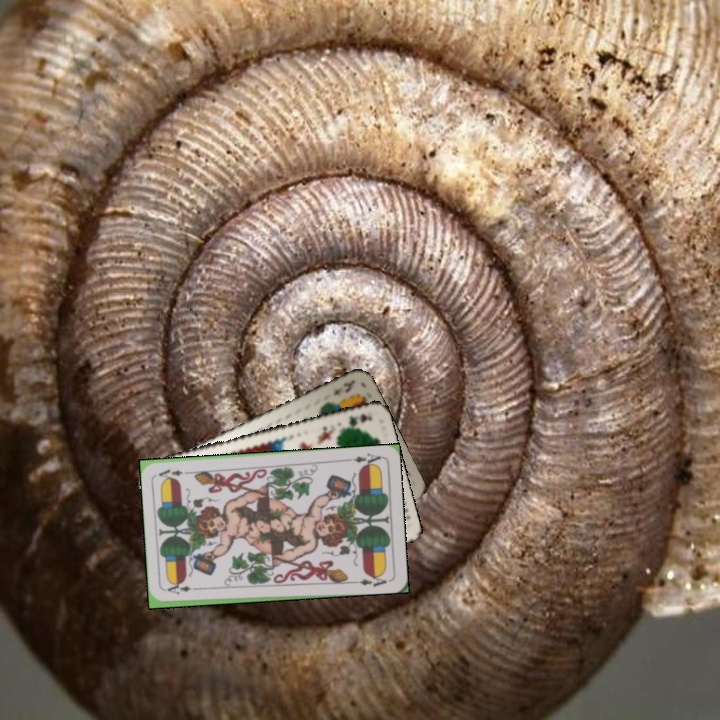EA: (343, 449, 383, 469), (163, 582, 203, 597)
EK: (329, 376, 357, 398)
GK: (345, 410, 374, 429)
